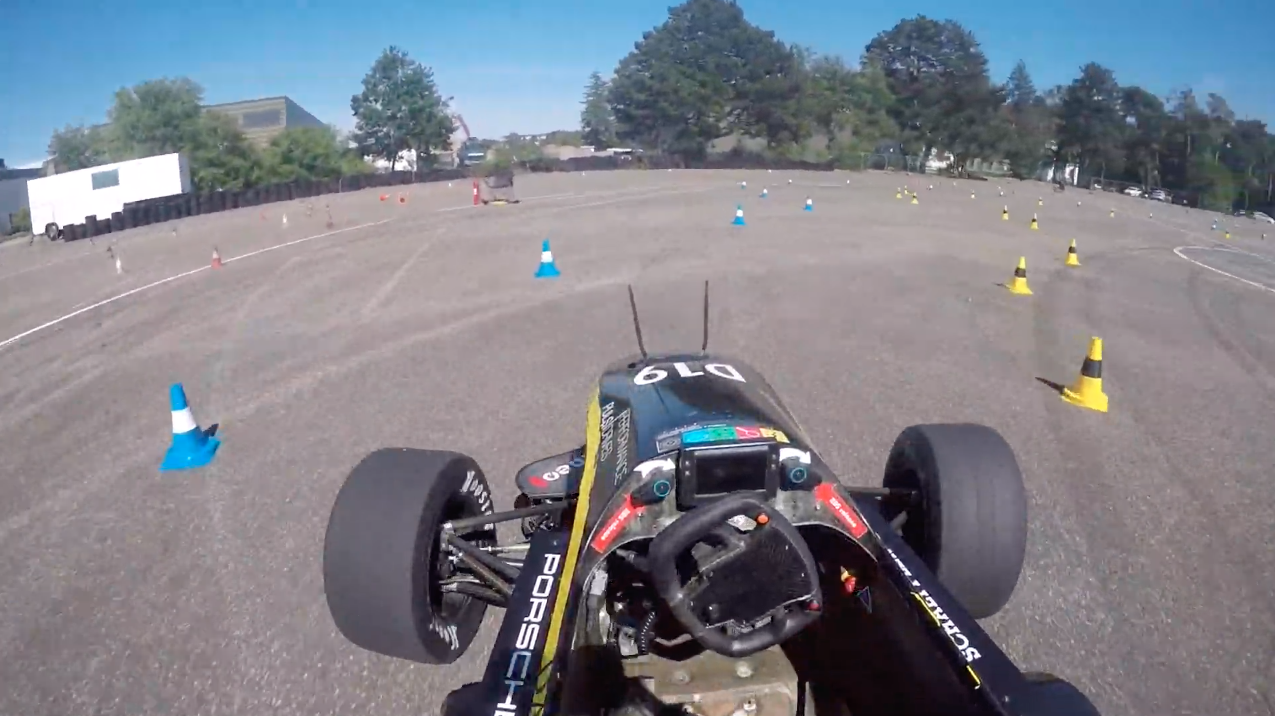lcone: (153, 382, 223, 475), (528, 233, 564, 285), (728, 202, 750, 230)
rcone: (1054, 332, 1119, 415), (1001, 253, 1039, 301), (1060, 238, 1089, 272)
